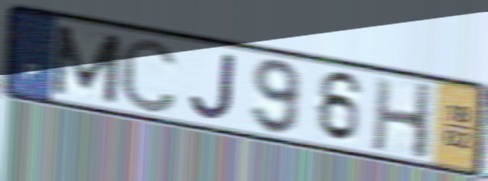6: (313, 69, 364, 145)
9: (249, 57, 303, 139)
C: (116, 35, 181, 116)
H: (370, 75, 437, 163)
J: (187, 50, 238, 122)
M: (48, 21, 124, 107)
